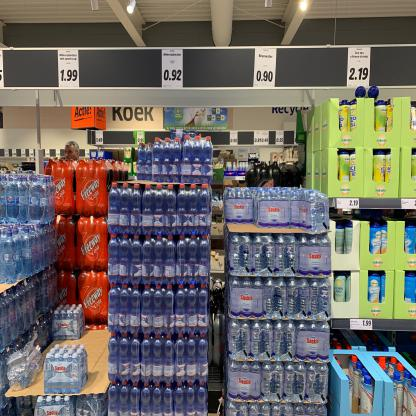prtg: (254, 49, 278, 88), (348, 48, 371, 88), (163, 51, 184, 89), (59, 51, 80, 88), (351, 320, 373, 331), (338, 200, 360, 210), (402, 199, 416, 211), (262, 132, 270, 146), (277, 132, 285, 145), (255, 133, 262, 146), (231, 133, 238, 146), (97, 132, 104, 145), (138, 132, 144, 145), (295, 132, 299, 145)
